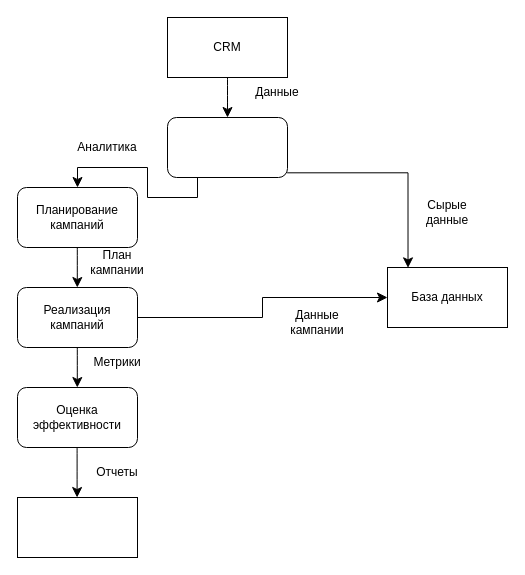
This 525x575 diagram has some shape labels left out. The centre of each missing label's shape, as x and y in pixels:
"Маркетолог" goes at (x=77, y=527).
"Обработка данных" goes at (x=227, y=147).
